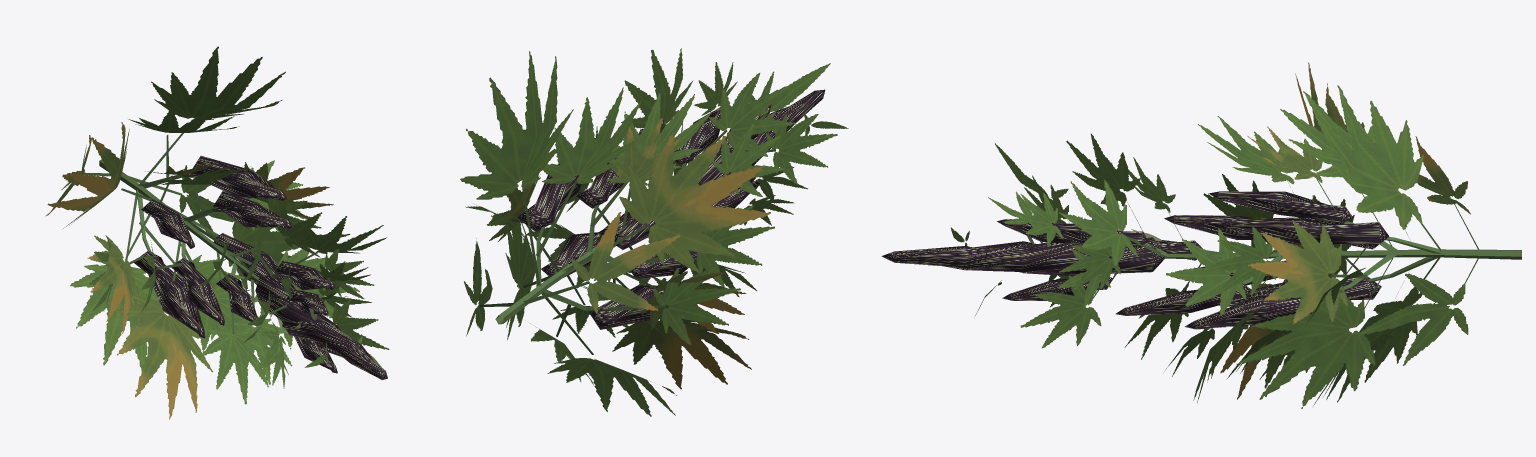
The model's file is p_dark_haze_ripe_c0_cards.obj.
3 renders of one model, left to right at view 1: azimuth 30°, elevation 25°; view 2: azimuth 150°, elevation 25°; view 3: azimuth 270°, elevation 25°, orthographic. The views are drawn at different scales.
Size of the model in its own units: 1.32 by 1.48 by 2.03.
Materials: 1 (1 with a texture image).
